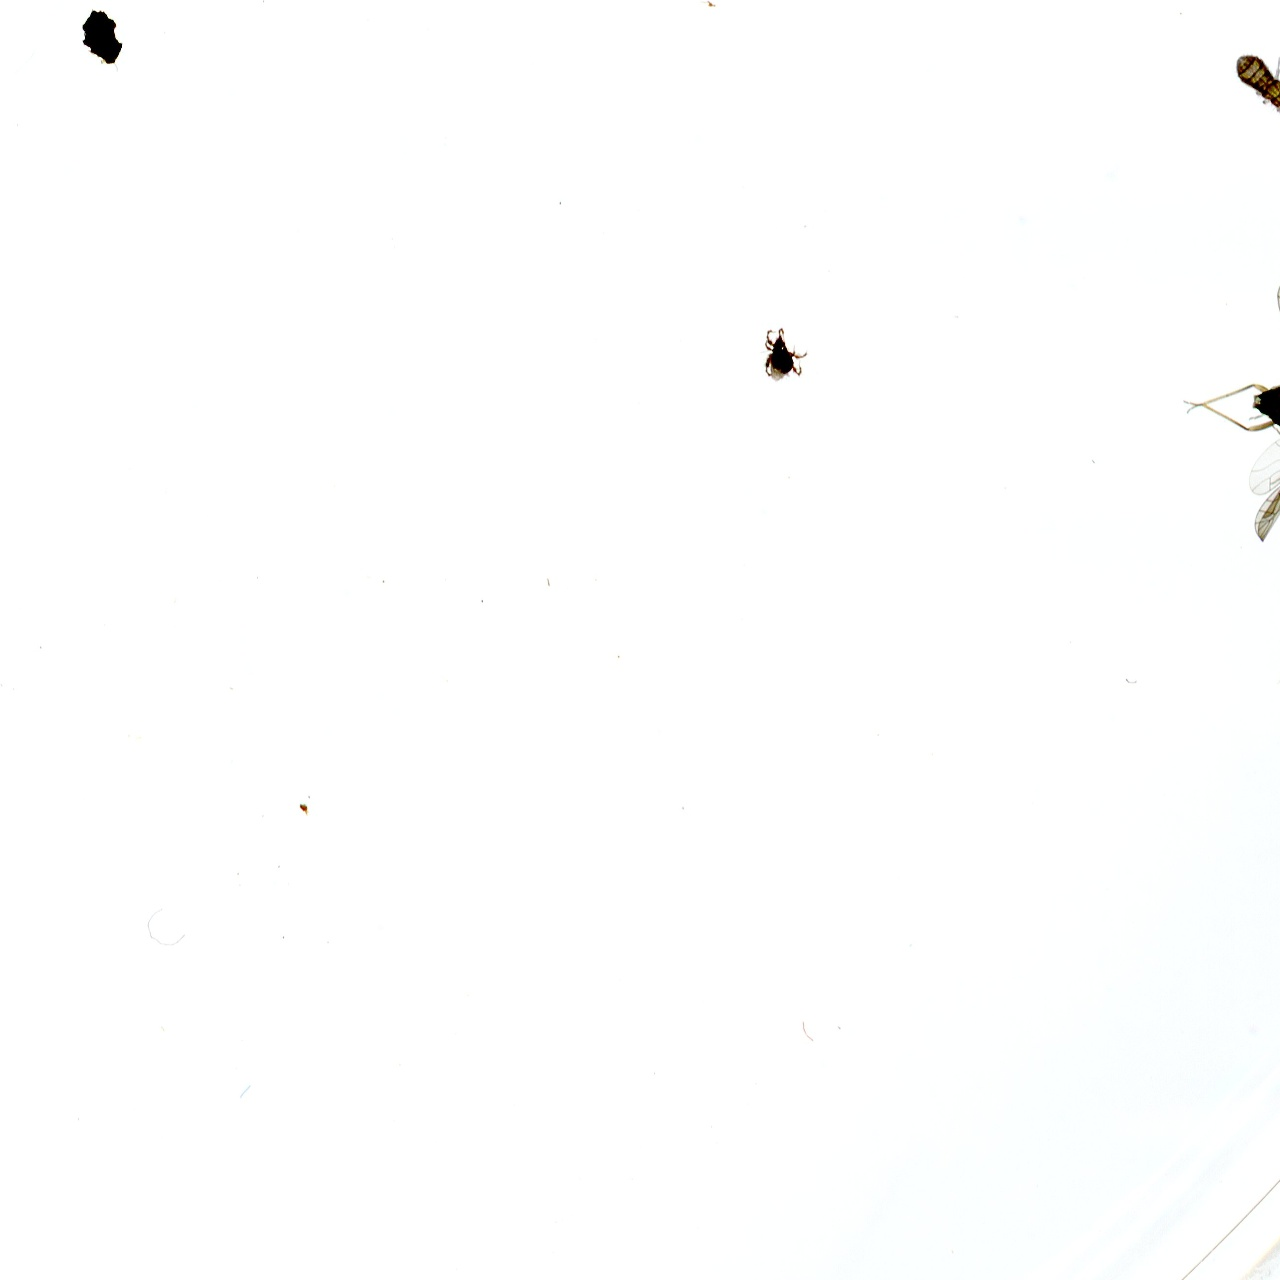arthropod: (1180, 275, 1280, 546), (1220, 32, 1280, 152), (754, 326, 810, 384)
